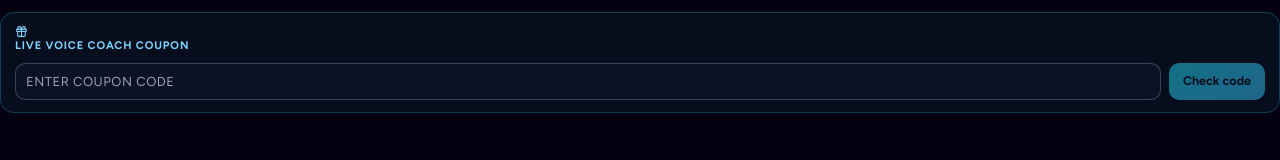
invalid code shows a friendly error, never the raw backend reason code
In the field with test id "live-coupon-input": x=588, y=81 15,62 -> 1161,100, type "bad"
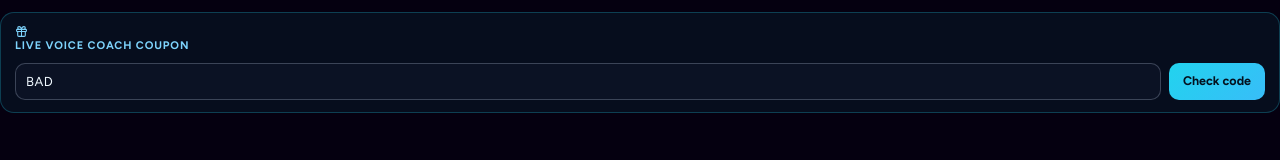
Click the button with test id "live-coupon-check-btn": x=1217, y=81 1169,62 -> 1265,100
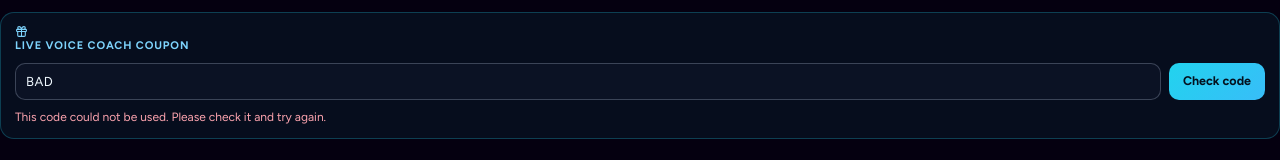
Result: the text "This code could not be used. Please check it and try again." is shown at 15,110 -> 326,124
